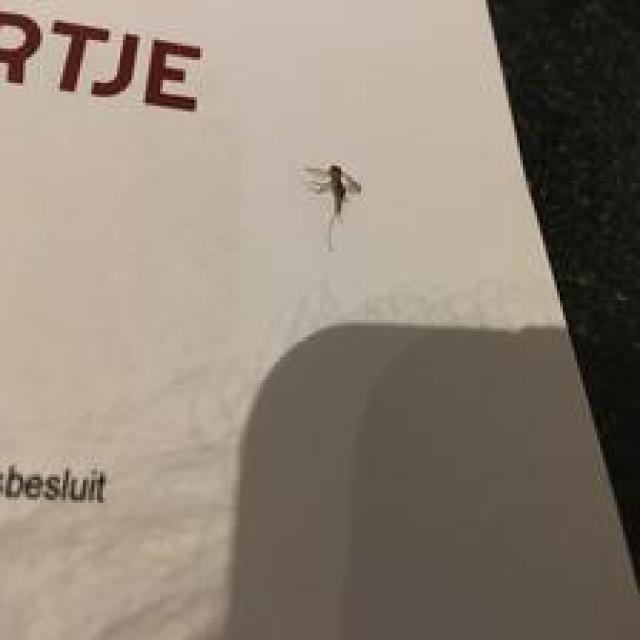Culex: (303, 161, 363, 253)
